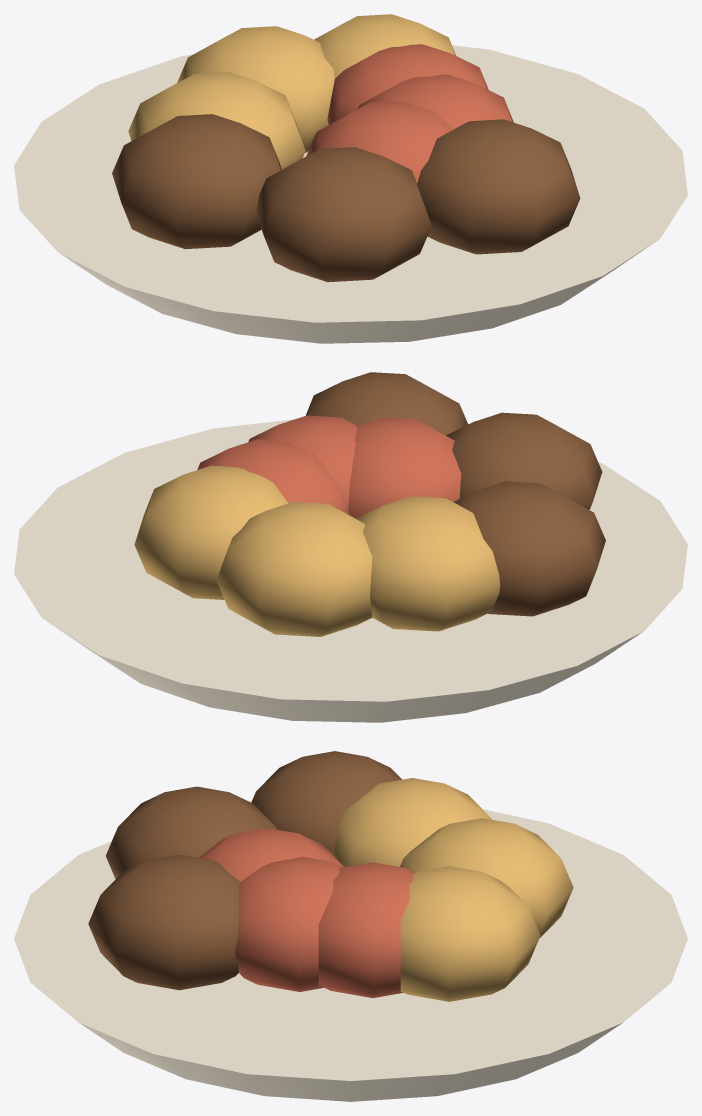
Rendered from bakedApples.glb.
3 renders of one model, top to bottom at view 1: azimuth 30°, elevation 25°; view 2: azimuth 150°, elevation 25°; view 3: azimuth 270°, elevation 25°, orthographic.
Size of the model in its own units: 0.96 by 0.226 by 0.96.
